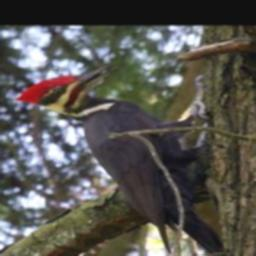Woodpecker: (15, 64, 233, 256)
